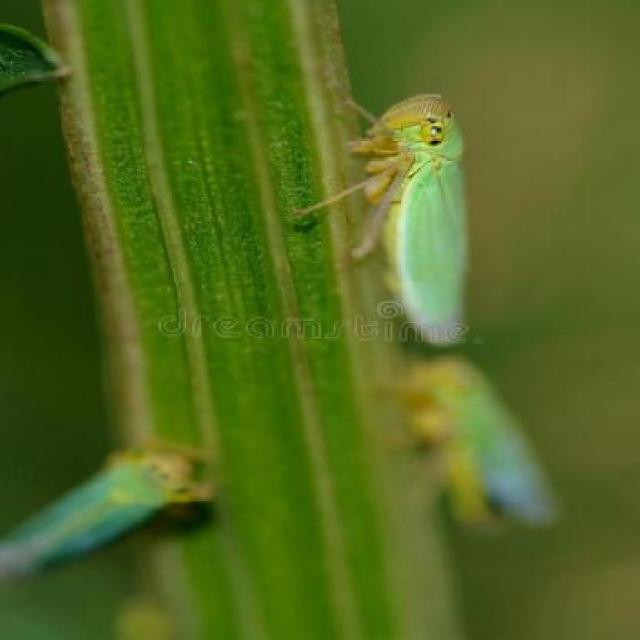green-leafhopper: (329, 85, 478, 342), (9, 432, 194, 577), (410, 362, 536, 538)
